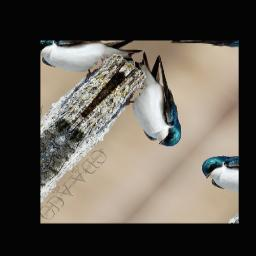Swallow: (97, 47, 220, 154)
